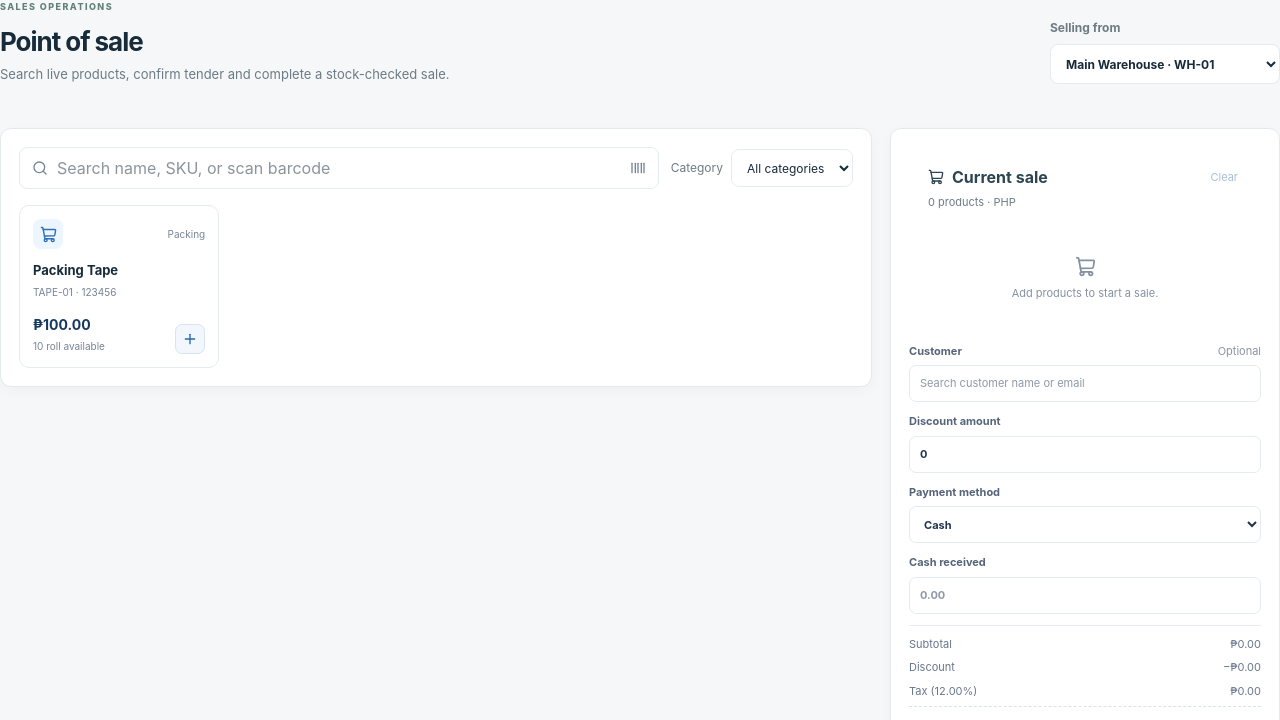
it: Point of sale page › completes a cash sale using the server priced cart and prints its receipt
Later steps or results of the test are not shown.
Click the button named "Add Packing Tape" at {"x": 190, "y": 338}, box x1=175 y1=324 x2=205 y2=354
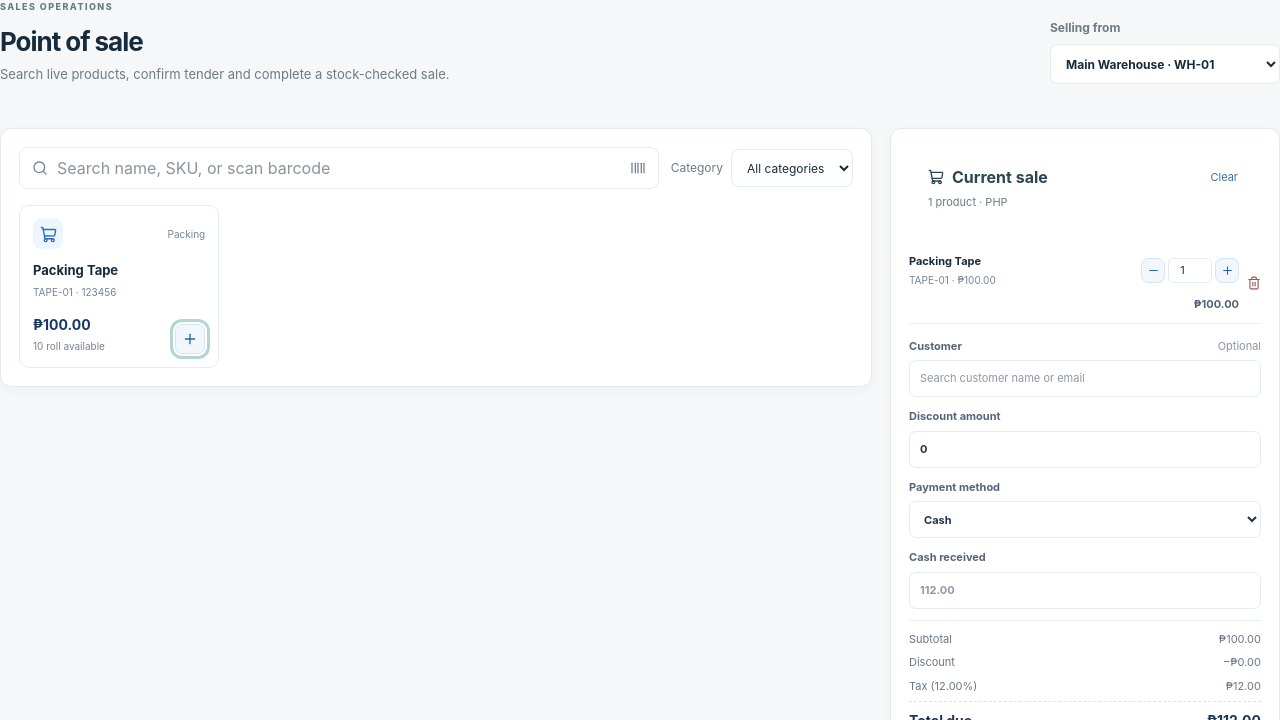
Type "120" into the number field labelled "Cash received" at {"x": 1085, "y": 590}, box x1=909 y1=572 x2=1261 y2=608
(page scrolled)
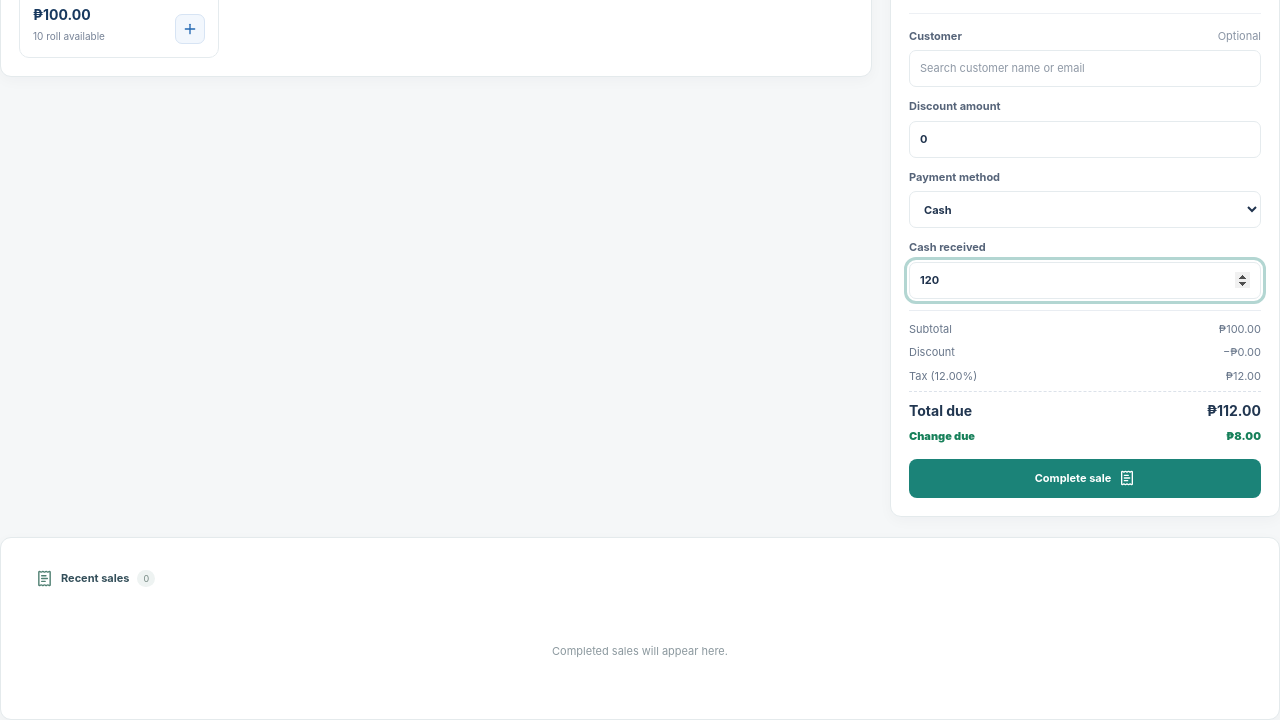
Click the button "Complete sale" at {"x": 1085, "y": 478}, box x1=909 y1=458 x2=1261 y2=498
(page scrolled)
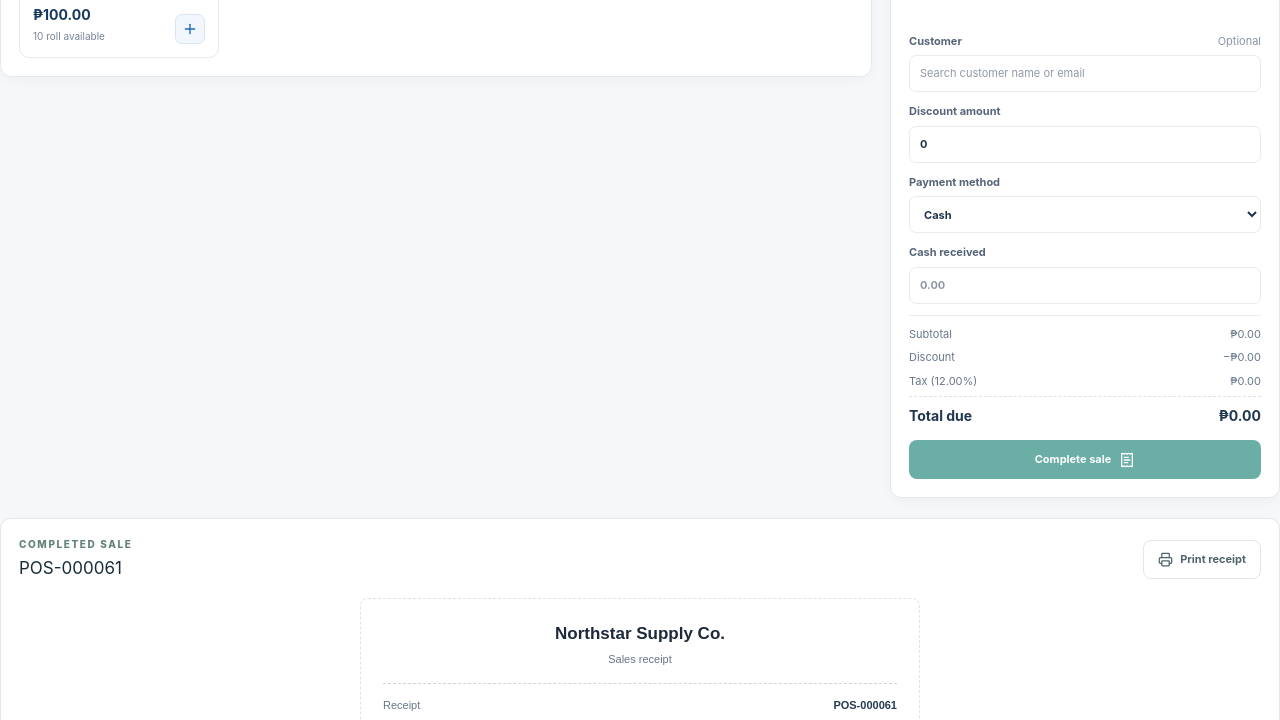
Now the number of headings "POS-000061" is 2, box x1=19 y1=556 x2=132 y2=582; x1=833 y1=696 x2=897 y2=713
